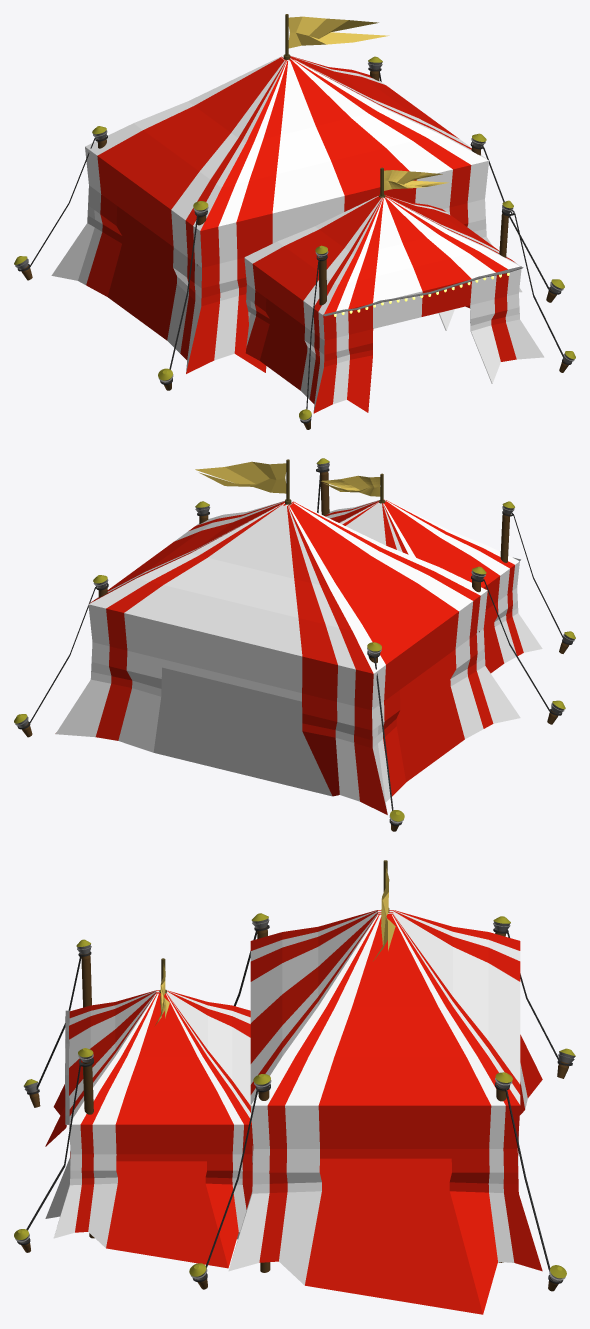
The model's file is circo.glb.
The picture shows the model from 3 angles, top to bottom: view 1: azimuth 30°, elevation 25°; view 2: azimuth 150°, elevation 25°; view 3: azimuth 270°, elevation 25°; orthographic projection. The views are drawn at different scales.
Visible parts, largest first — view 1: carpa, carpa.001, bandera, bandera.001, carpa.002; view 2: carpa, carpa.001, bandera, bandera.001, Cylinder.022, Cylinder.007; view 3: carpa, carpa.001, Cylinder.007, Cylinder.022, bandera.
Part boxes in pixels (x1,y1,x2,y2): carpa: [51, 56, 522, 373]; carpa.001: [244, 195, 544, 413]; bandera: [288, 16, 389, 48]; bandera.001: [384, 170, 448, 190]; carpa.002: [322, 266, 523, 316]; carpa: [55, 501, 520, 814]; carpa.001: [325, 499, 542, 673]; bandera: [195, 461, 286, 493]; bandera.001: [321, 475, 380, 496]; Cylinder.022: [500, 501, 514, 562]; Cylinder.007: [316, 458, 329, 515]; carpa: [228, 910, 542, 1314]; carpa.001: [45, 990, 252, 1268]; Cylinder.007: [78, 1048, 94, 1238]; Cylinder.022: [76, 939, 91, 1007]; bandera: [373, 866, 395, 960].
Bounding box in the file's own units: 19.84 × 13.68 × 20.31.
